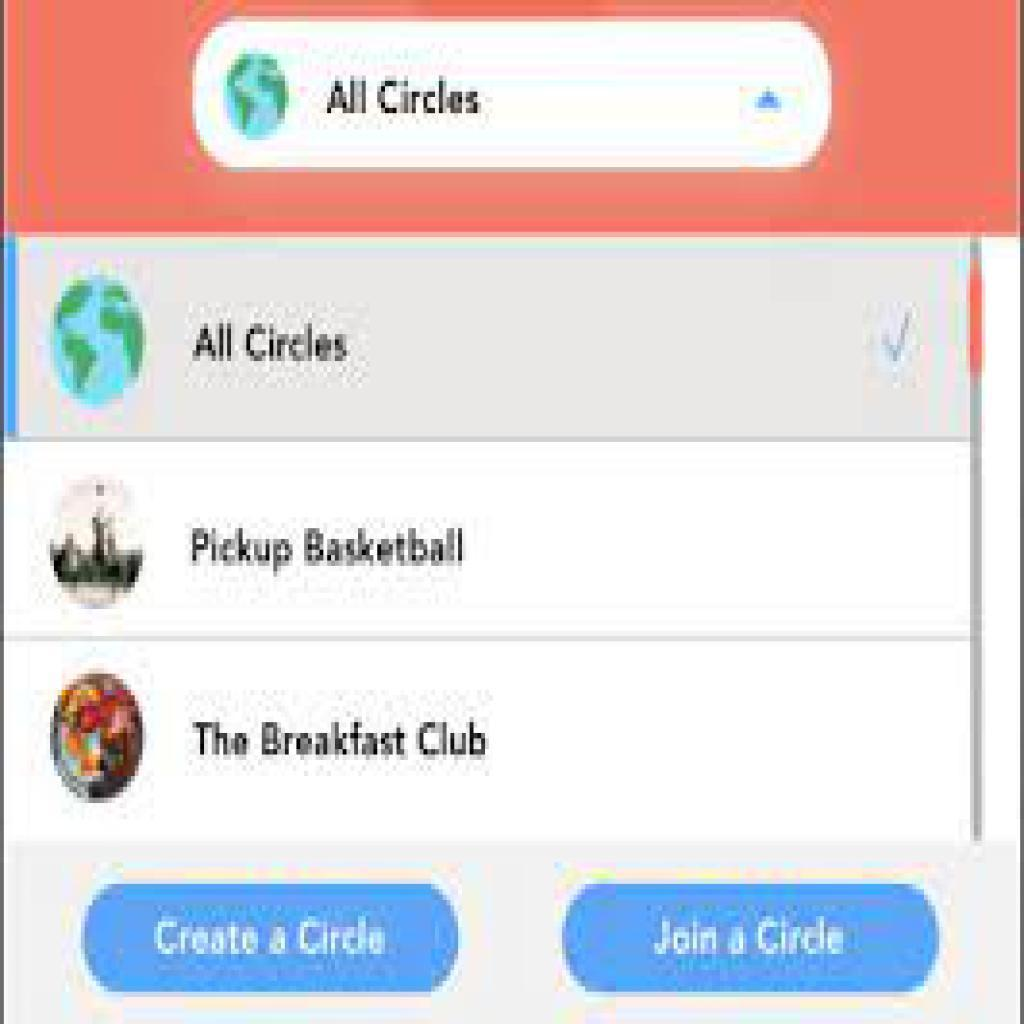button: (560, 881, 942, 997), (78, 882, 462, 997)
dropdown: (190, 11, 836, 172)
label: (188, 712, 492, 767), (185, 521, 472, 576), (190, 317, 353, 370)
